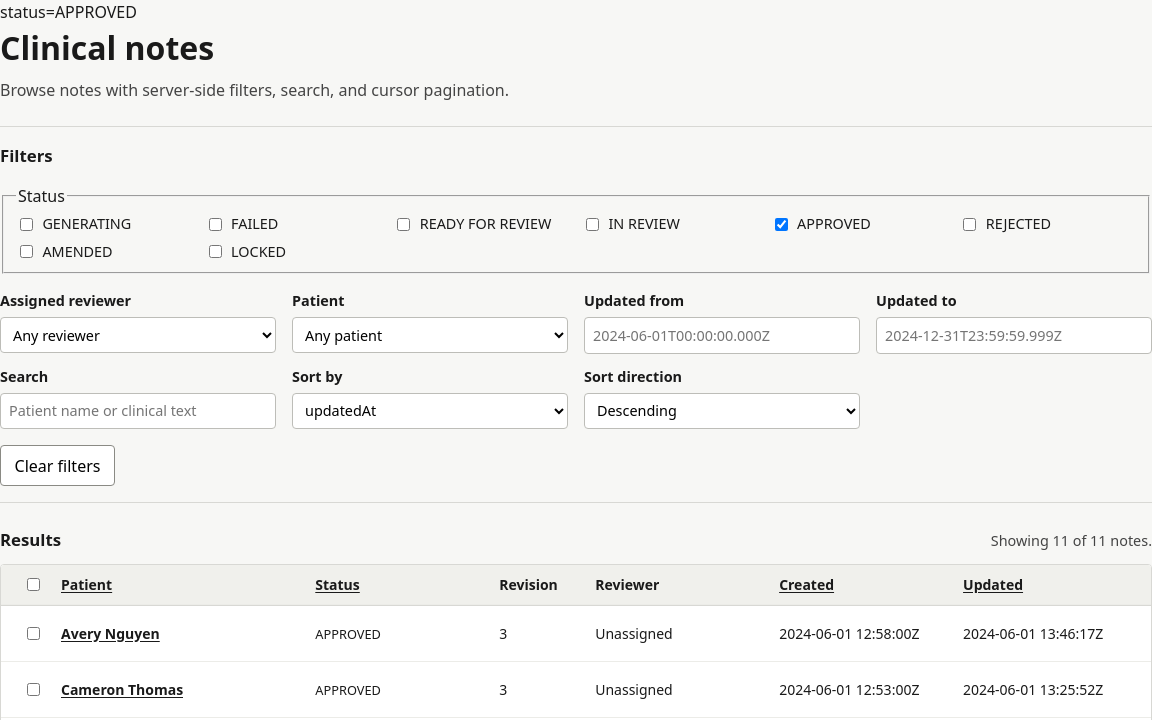
it: NotesListPage › regeneration role gating › non-FAILED selection shows "Regeneration is available only for failed notes."
The image size is (1152, 720).
Click the checkbox named "Select note for" at (34,633), box [27,627,40,640]
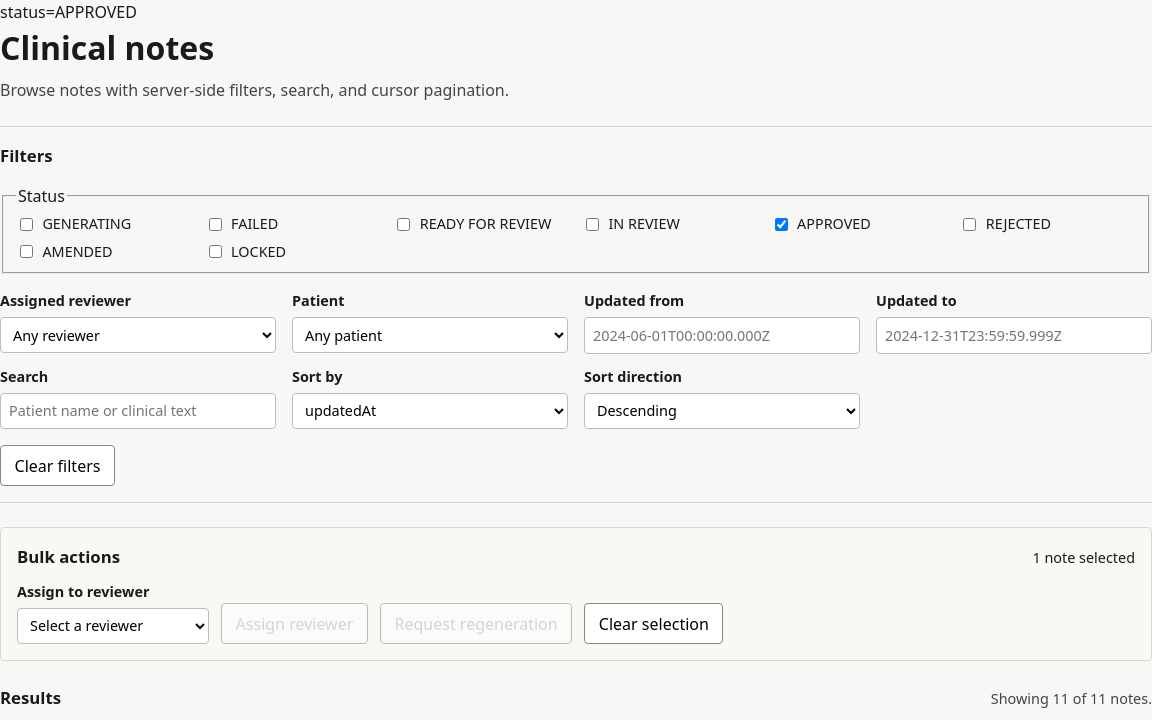
Result: the element with test id "bulk-action-toolbar" is shown at [0,527,1151,661]
